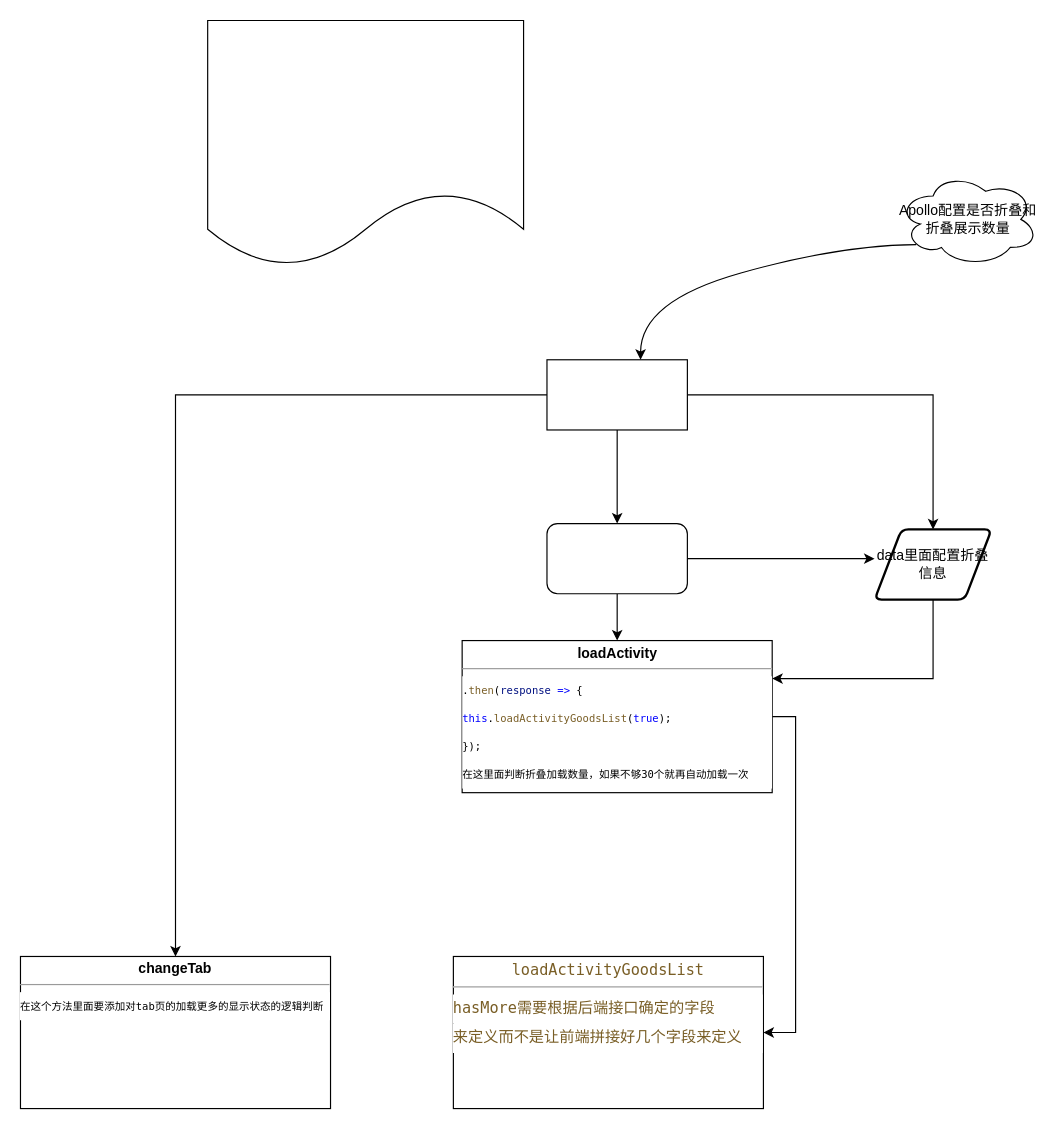
This 1059x1129 diagram has some shape labels left out. The centre of each missing label's shape, as x and y in pixels:
"1、折叠的交互应该是点击不应该是下滑，下滑的话，就显得加载更多显得多余" goes at point (365, 142).
"onLoad里面拿到秒杀的折叠配置信息" goes at point (616, 558).
"秒杀落地页" goes at point (616, 394).
